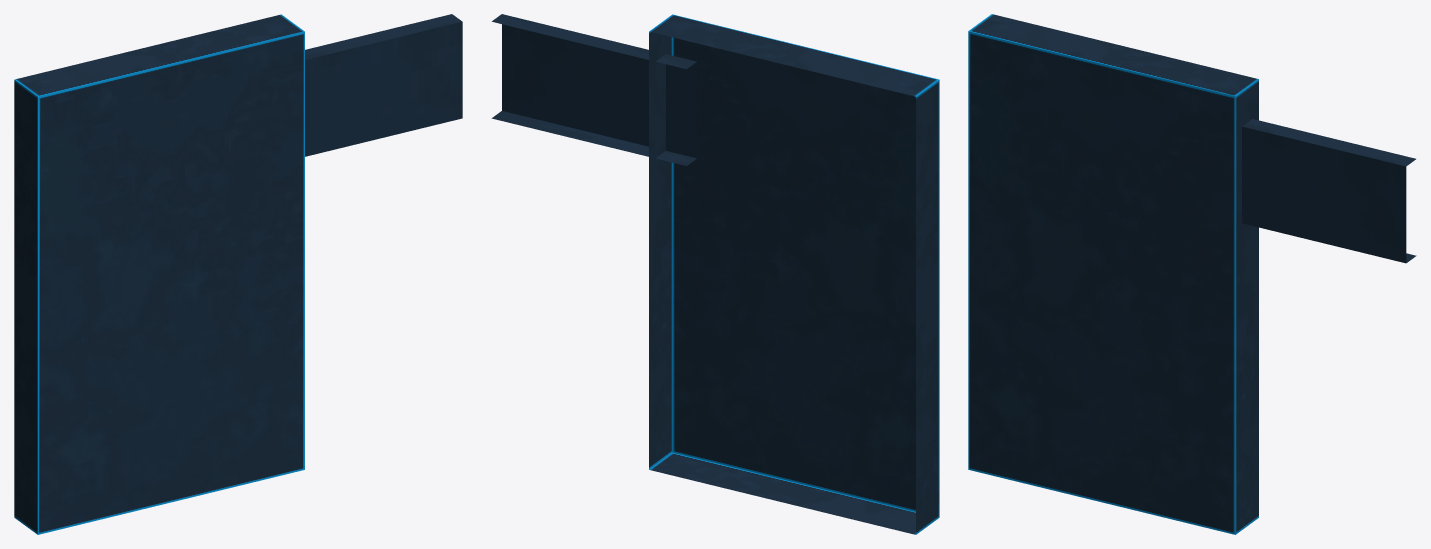
Rendered from R Side Billboard V2.5.fbx.
3 renders of one model, left to right at view 1: azimuth 30°, elevation 25°; view 2: azimuth 150°, elevation 25°; view 3: azimuth 330°, elevation 25°, orthographic.
Visible parts, largest first — view 1: pCube8; view 2: pCube8; view 3: pCube8.
Boxes of the visible parts, left/top/right/bottom form: pCube8: left=14, top=14, right=462, bottom=534; pCube8: left=491, top=14, right=939, bottom=534; pCube8: left=968, top=14, right=1416, bottom=534.
Bounding box in the file's own units: 17.67 × 17.16 × 1.67.
